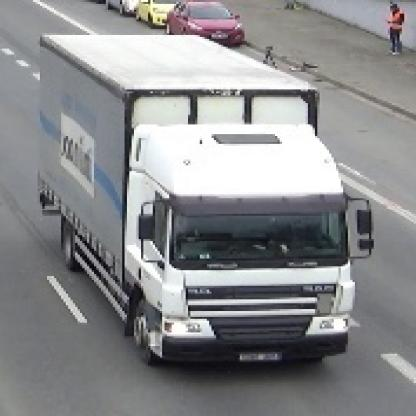truck: (34, 27, 375, 371)
